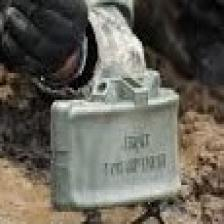MOH-50: (52, 90, 177, 204)
